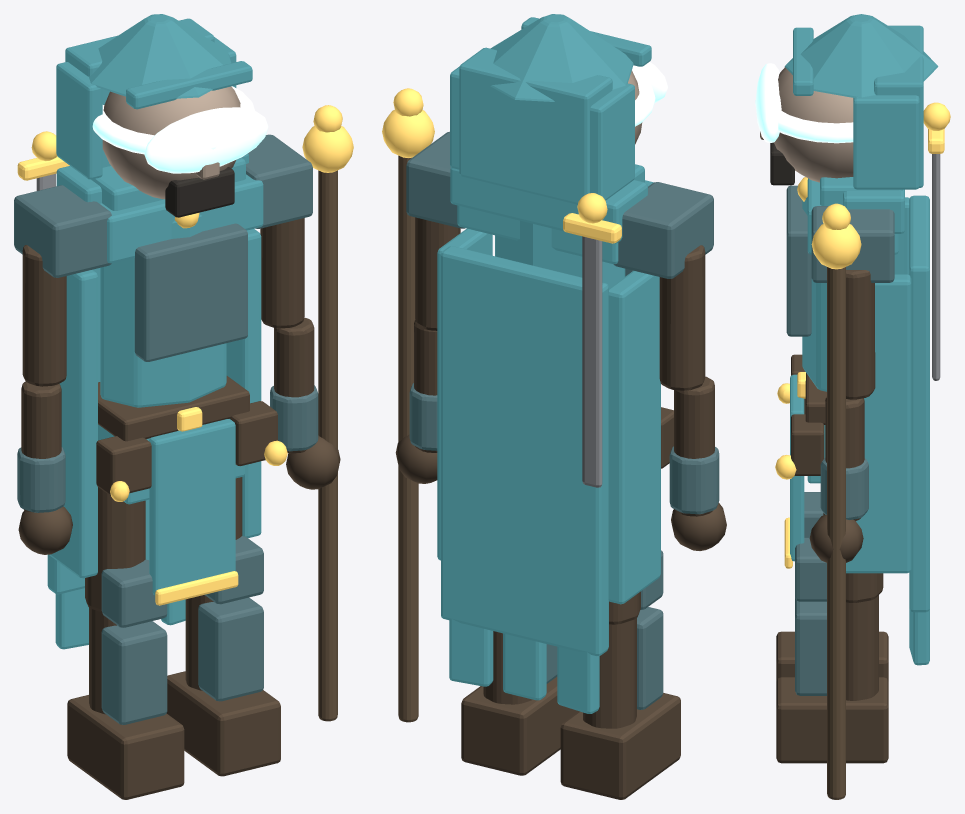
The model's file is player.glb.
The picture shows the model from 3 angles, left to right: view 1: azimuth 30°, elevation 25°; view 2: azimuth 150°, elevation 25°; view 3: azimuth 270°, elevation 25°; orthographic projection. The views are drawn at different scales.
Parts seen in each view (by area): view 1: TorsoMesh, HeadMesh, HipsMesh, ArmLMesh, ShinLMesh, ShinRMesh, ArmRMesh, StaffMesh, LegLMesh; view 2: TorsoMesh, HeadMesh, ArmLMesh, ShinLMesh, StaffMesh, ArmRMesh, ShinRMesh, LegLMesh, HipsMesh; view 3: TorsoMesh, HeadMesh, ShinRMesh, StaffMesh, ArmRMesh, HipsMesh, ShinLMesh, LegRMesh.
Part boxes in pixels (left/top/right/bottom): TorsoMesh: left=17, top=131, right=263, bottom=649; HeadMesh: left=56, top=14, right=268, bottom=217; HipsMesh: left=96, top=376, right=287, bottom=605; ArmLMesh: left=14, top=185, right=111, bottom=554; ShinLMesh: left=67, top=559, right=184, bottom=799; ShinRMesh: left=166, top=536, right=280, bottom=776; ArmRMesh: left=246, top=134, right=340, bottom=489; StaffMesh: left=302, top=105, right=353, bottom=721; LegLMesh: left=85, top=487, right=145, bottom=611; TorsoMesh: left=437, top=164, right=660, bottom=713; HeadMesh: left=450, top=14, right=667, bottom=204; ArmLMesh: left=613, top=182, right=726, bottom=550; ShinLMesh: left=560, top=550, right=680, bottom=799; StaffMesh: left=382, top=88, right=434, bottom=722; ArmRMesh: left=395, top=131, right=465, bottom=483; ShinRMesh: left=461, top=631, right=578, bottom=775; LegLMesh: left=609, top=591, right=640, bottom=624; HipsMesh: left=661, top=407, right=673, bottom=468; TorsoMesh: left=786, top=102, right=950, bottom=665; HeadMesh: left=755, top=14, right=938, bottom=189; ShinRMesh: left=776, top=537, right=888, bottom=763; StaffMesh: left=811, top=203, right=861, bottom=799; ArmRMesh: left=809, top=206, right=894, bottom=562; HipsMesh: left=775, top=354, right=826, bottom=568; ShinLMesh: left=776, top=492, right=888, bottom=681; LegRMesh: left=823, top=513, right=883, bottom=603.
Size of the model in its own units: 0.8818 by 1.89 by 0.4711.
